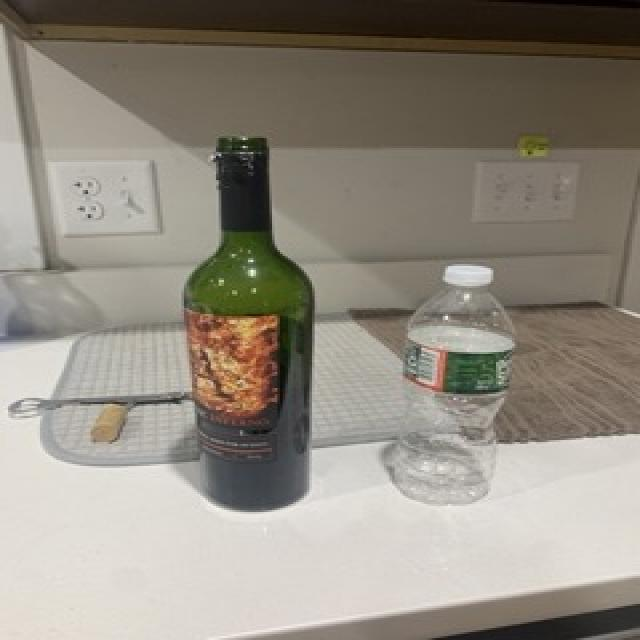water_bottle: (392, 262, 522, 509)
